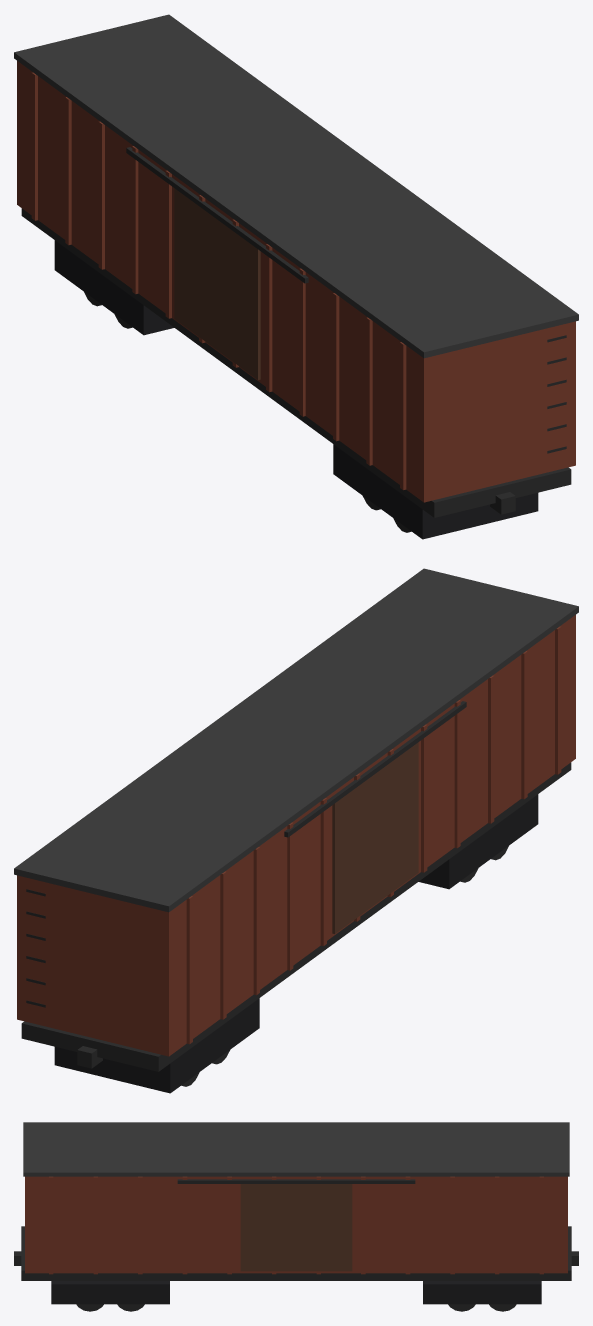
The model's file is freight-wagon.glb.
3 views of the same model, one above another, from view 1: azimuth 30°, elevation 25°; view 2: azimuth 150°, elevation 25°; view 3: azimuth 270°, elevation 25° (orthographic). The views are drawn at different scales.
Visible parts, largest first — view 1: part-body, part-roof-wagon, part-wagon-door, part-underframe, part-bogie; view 2: part-body, part-roof-wagon, part-wagon-door, part-underframe, part-bogie; view 3: part-body, part-roof-wagon, part-wagon-door, part-underframe, part-bogie, part-wheel.
Part boxes in pixels (left/top/right/bottom): part-body: left=17, top=61, right=575, bottom=502; part-roof-wagon: left=14, top=14, right=578, bottom=358; part-wagon-door: left=174, top=188, right=260, bottom=379; part-underframe: left=21, top=147, right=571, bottom=517; part-bogie: left=54, top=240, right=538, bottom=539; part-body: left=17, top=615, right=575, bottom=1056; part-roof-wagon: left=14, top=568, right=578, bottom=912; part-wagon-door: left=332, top=742, right=418, bottom=933; part-underframe: left=21, top=701, right=571, bottom=1071; part-bogie: left=54, top=794, right=538, bottom=1093; part-body: left=25, top=1176, right=567, bottom=1274; part-roof-wagon: left=23, top=1122, right=569, bottom=1176; part-wagon-door: left=240, top=1184, right=352, bottom=1271; part-underframe: left=14, top=1179, right=578, bottom=1280; part-bogie: left=51, top=1281, right=541, bottom=1304; part-wheel: left=76, top=1304, right=516, bottom=1311.
Size of the model in its own units: 33.49 by 44 by 152.
